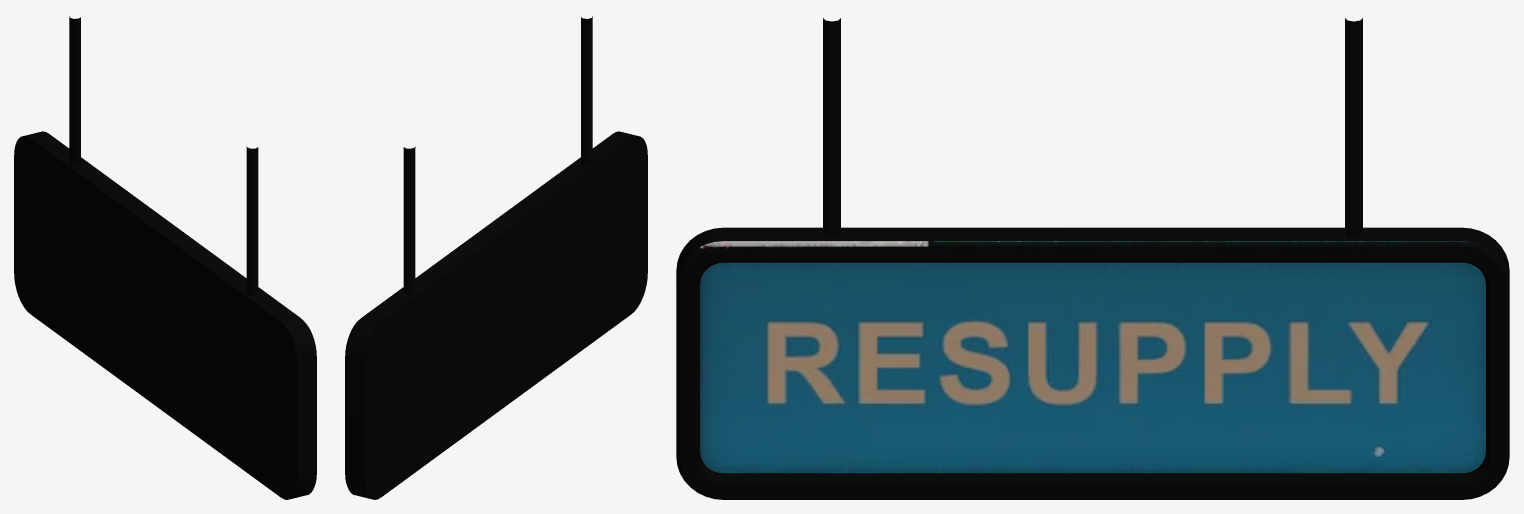
3 renders of one model, left to right at view 1: azimuth 30°, elevation 25°; view 2: azimuth 150°, elevation 25°; view 3: azimuth 270°, elevation 25°, orthographic. The views are drawn at different scales.
Visible parts, largest first — view 1: body0_model0_lod0_mesh0; view 2: body0_model0_lod0_mesh0; view 3: body0_model0_lod0_mesh0.
Part boxes in pixels (x1,y1,x2,y2): body0_model0_lod0_mesh0: [14, 16, 316, 499]; body0_model0_lod0_mesh0: [345, 16, 647, 499]; body0_model0_lod0_mesh0: [676, 18, 1509, 499].
Size of the model in its own units: 3 by 44 by 70.
Materials: 1 (1 with a texture image).
